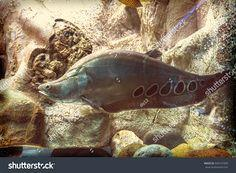Knifefish: (36, 49, 230, 113)
